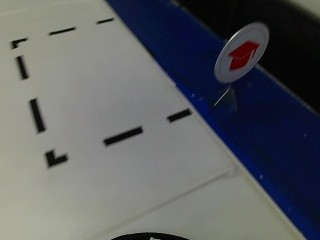school: (214, 24, 270, 84)
